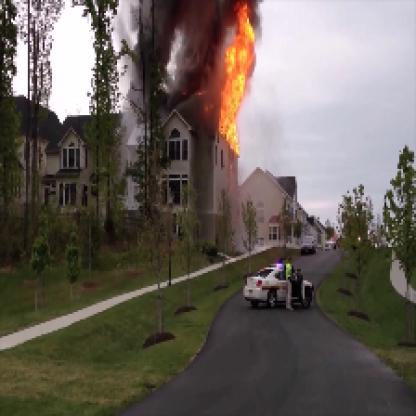Fire: (202, 2, 262, 156)
Smoke: (126, 2, 234, 108)
